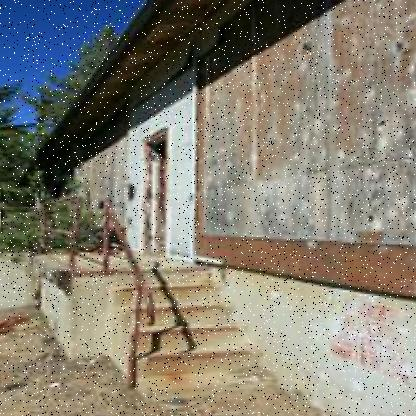stair_up: (115, 246, 261, 368)
